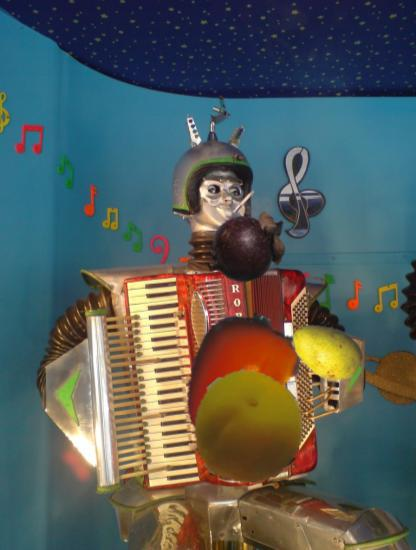Kaki: (171, 312, 310, 451)
Mangostan: (211, 208, 290, 287)
Peach: (190, 371, 303, 484)
Pear: (288, 314, 363, 389)
